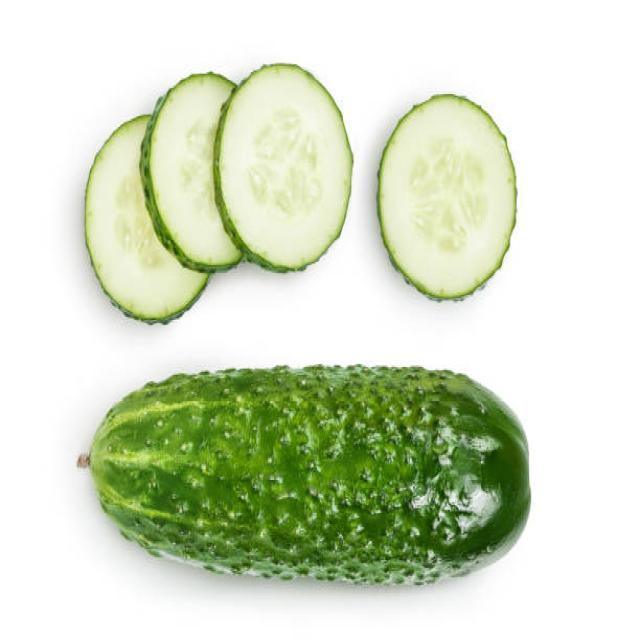cucumber: (89, 358, 532, 584)
